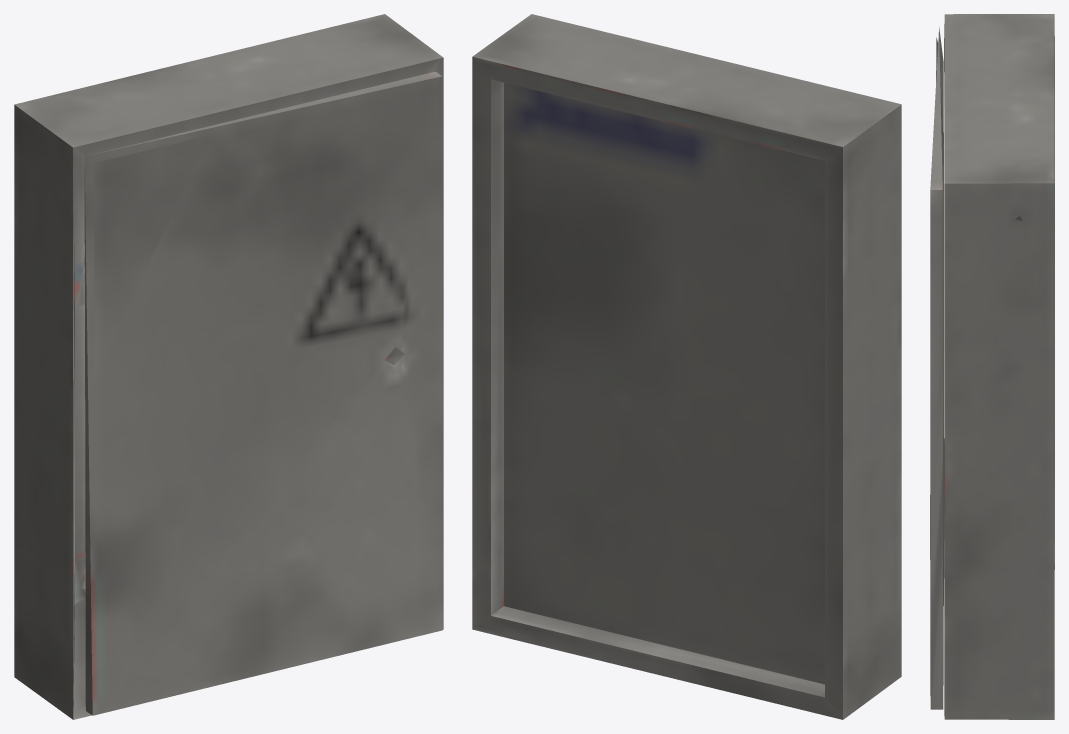
The model's file is power_box_01.fbx.
3 renders of one model, left to right at view 1: azimuth 30°, elevation 25°; view 2: azimuth 150°, elevation 25°; view 3: azimuth 270°, elevation 25°, orthographic. The views are drawn at different scales.
Visible parts, largest first — view 1: power_box_01; view 2: power_box_01; view 3: power_box_01.
Part boxes in pixels (x1,y1,x2,y2): power_box_01: (14,14,443,719); power_box_01: (472,14,901,719); power_box_01: (930,14,1054,719).
Bounding box in the file's own units: 0.345 × 0.5027 × 0.1059.
